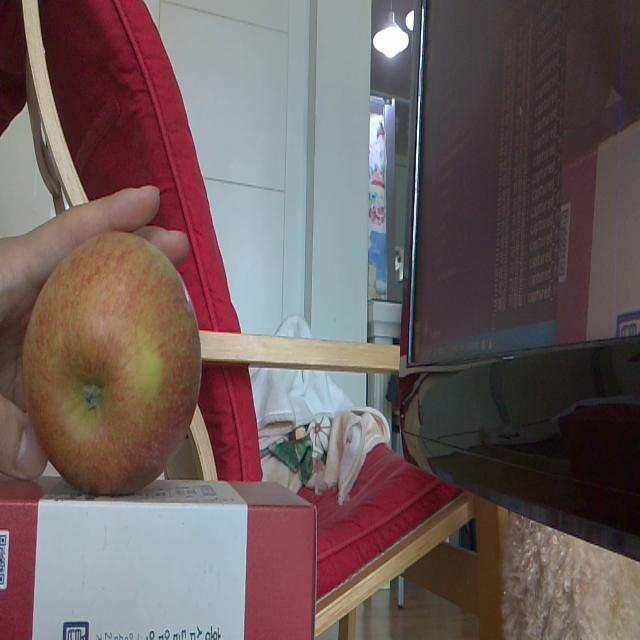apple: (24, 229, 200, 492)
